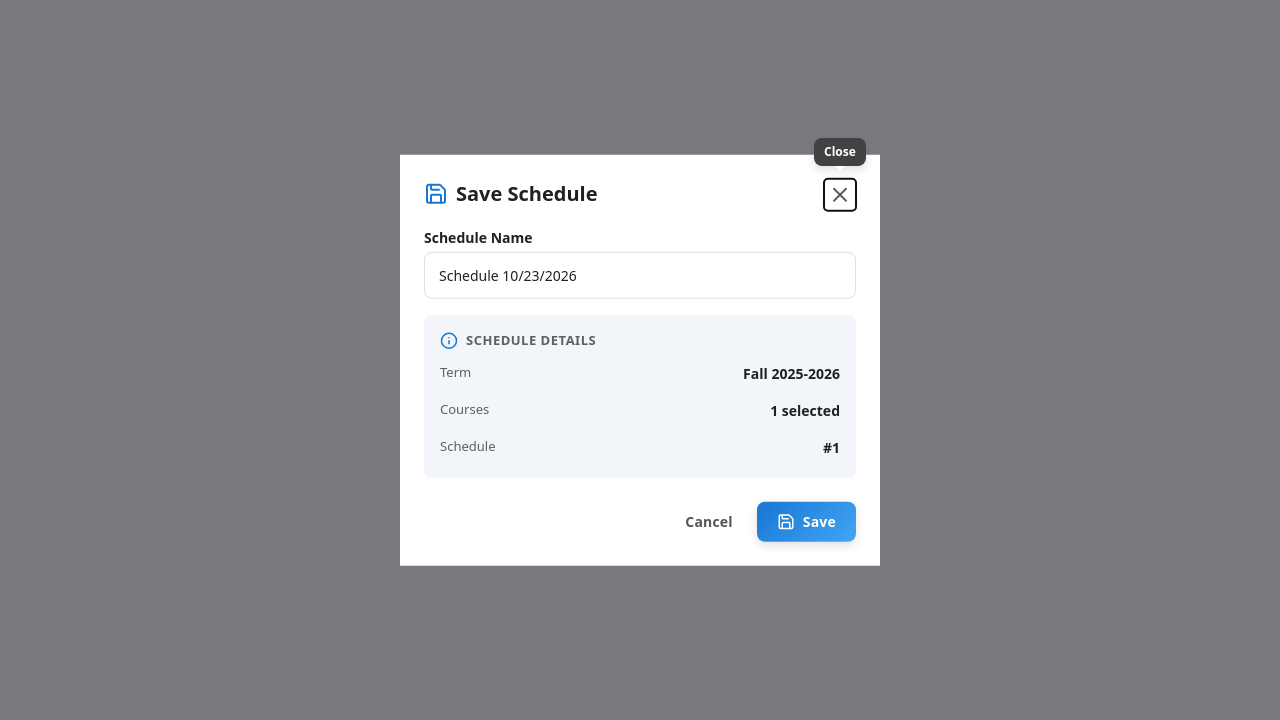
it: SaveScheduleDialog › requires a non-empty schedule name before saving
Clear the field labelled "Schedule Name" at (640,275), box [424, 252, 856, 299]
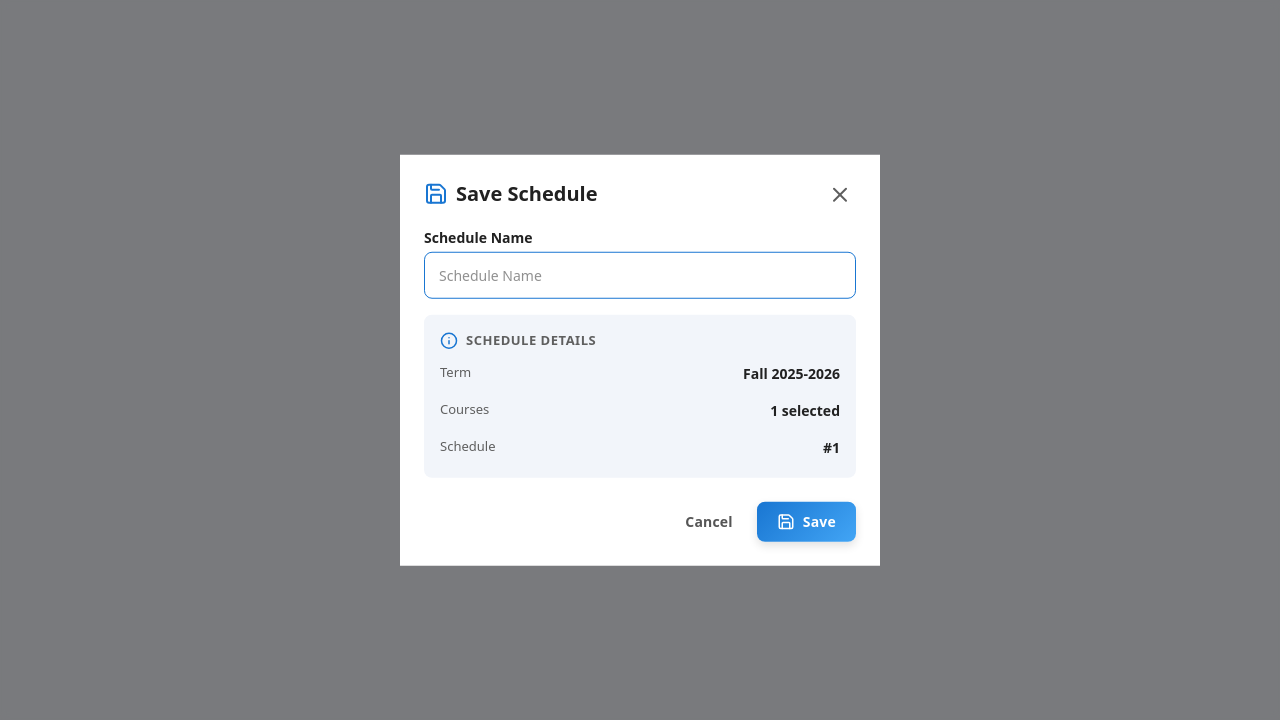
Click the button "Save".
click(806, 521)  # box [757, 501, 856, 541]
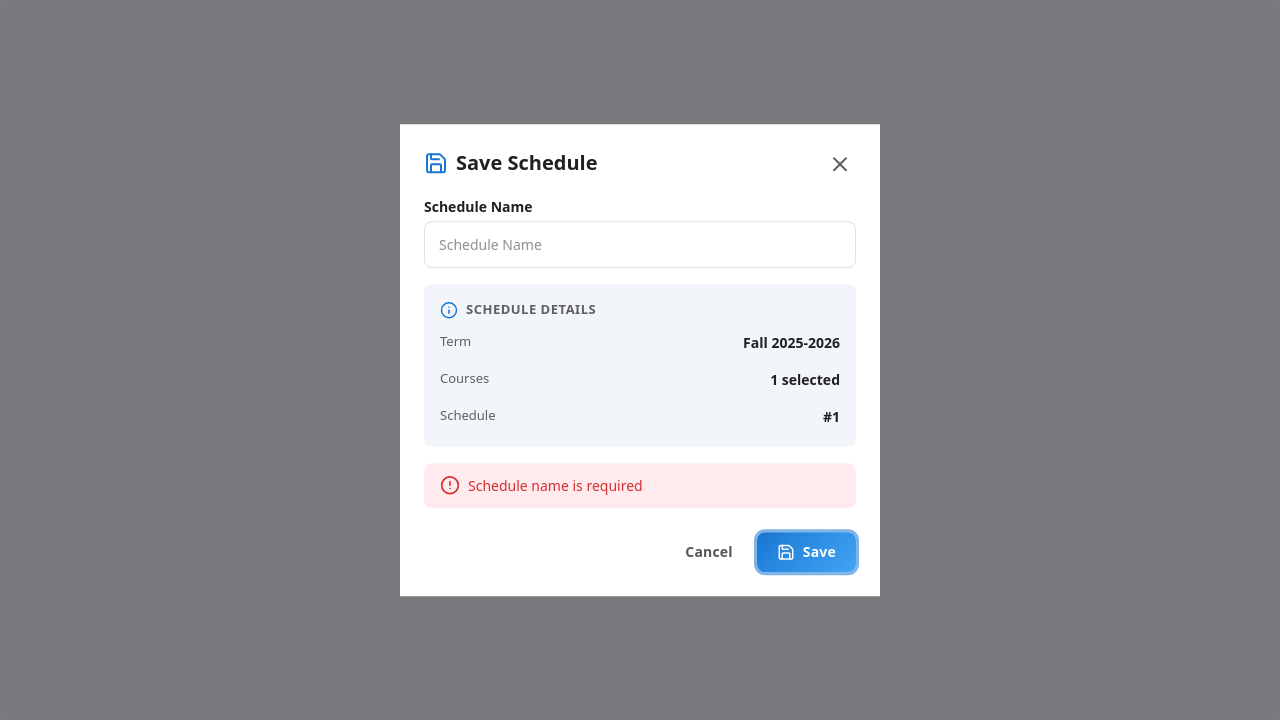
expect the text "Schedule name is required" is shown: met, box [468, 475, 643, 496]
